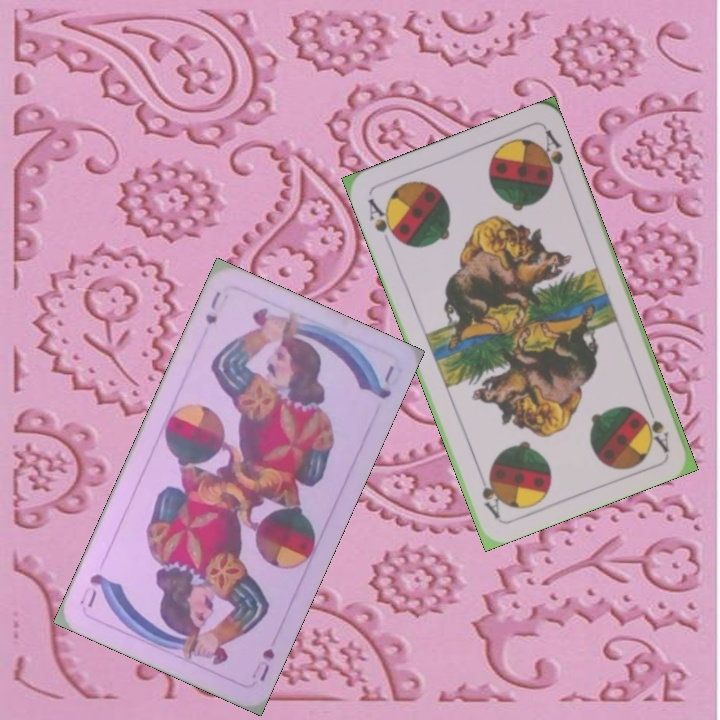SA: (364, 194, 402, 245), (639, 410, 672, 455)
SU: (201, 287, 224, 328), (255, 644, 277, 685)
